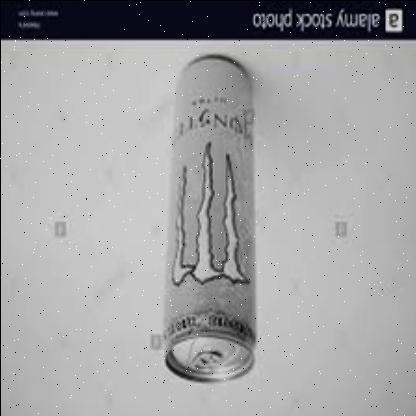Can: (163, 54, 257, 382)
